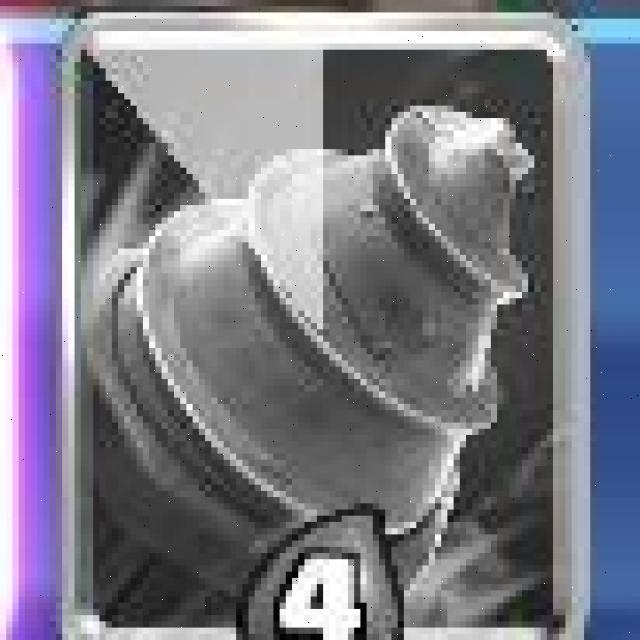Goblin_Drill: (65, 18, 590, 640)
